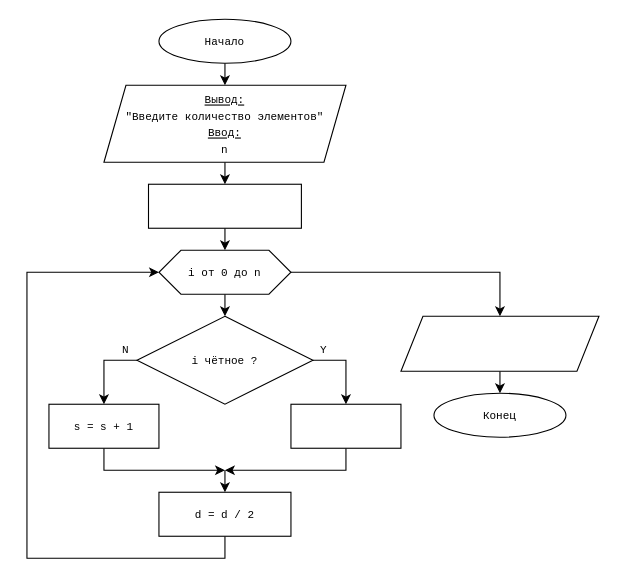
This 618x586 diagram has some shape labels left out. Each missing label, with the centre of its shape:
d = 1 s = 0: point (224, 205)
s = s - 1: point (345, 425)
Вывод: "Сумма элементов: ", s: point (499, 343)
